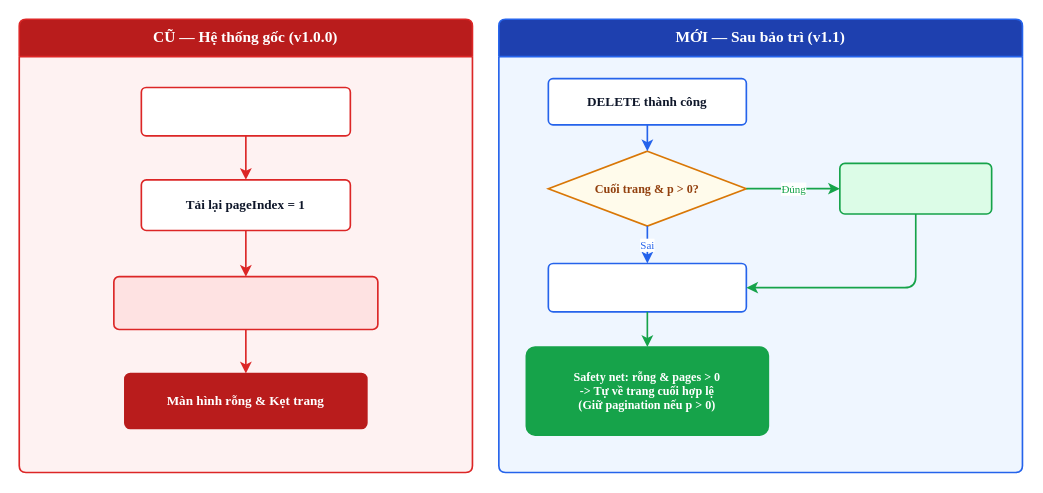
Some shapes in this 1043 by 493 pixel diagram are drawn without their labels. Here are the shapes that lost their labels. From the top down, the centre of each, then its label:
At pixel 245 111: "Xóa dòng cuối Trang 2".
At pixel 915 188: "p = p - 1".
At pixel 245 302: "Ẩn nút trang (totalPages <= 1)".
At pixel 647 287: "Gọi loadProducts(p)".
